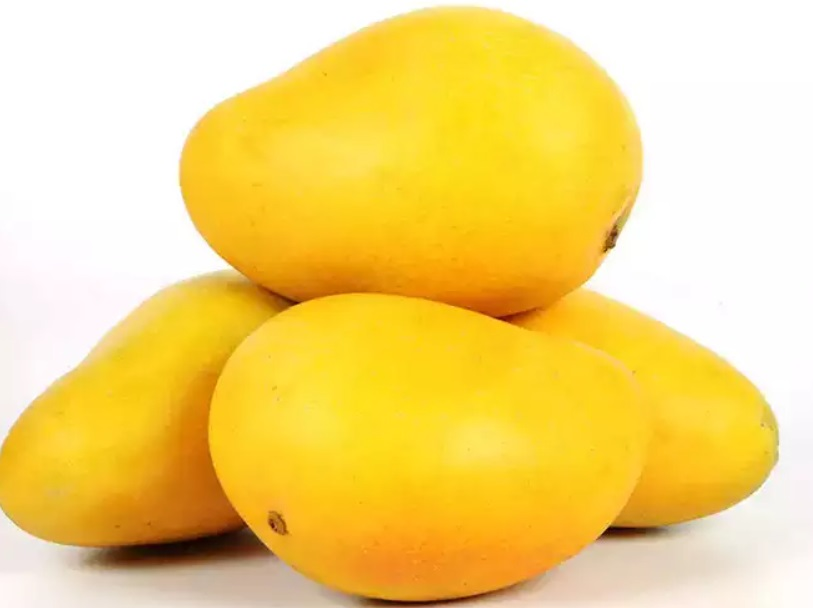Yellow: (9, 6, 783, 603)
